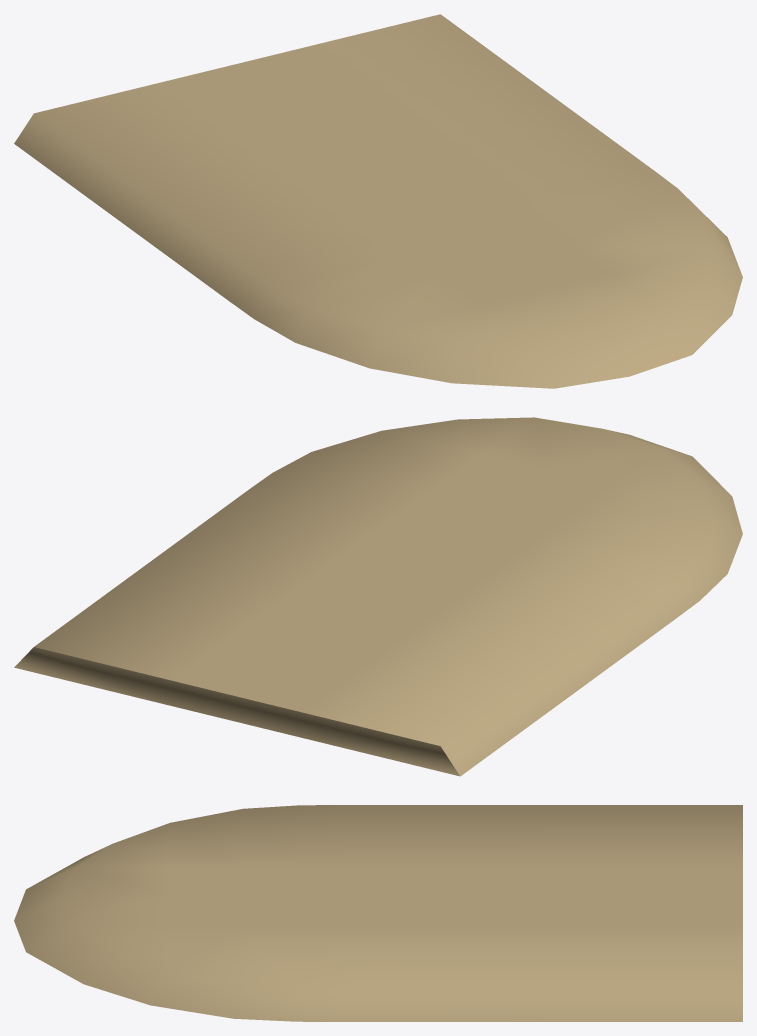
Rendered from Floor_Mesh.fbx.
3 views of the same model, one above another, from view 1: azimuth 30°, elevation 25°; view 2: azimuth 150°, elevation 25°; view 3: azimuth 270°, elevation 25° (orthographic). The views are drawn at different scales.
Parts seen in each view (by area): view 1: Floor_mesh; view 2: Floor_mesh; view 3: Floor_mesh.
Part boxes in pixels (x1,y1,x2,y2): Floor_mesh: (14, 14, 742, 388); Floor_mesh: (14, 417, 742, 776); Floor_mesh: (14, 805, 742, 1021).
Size of the model in its own units: 13 by 0.7097 by 19.8.
